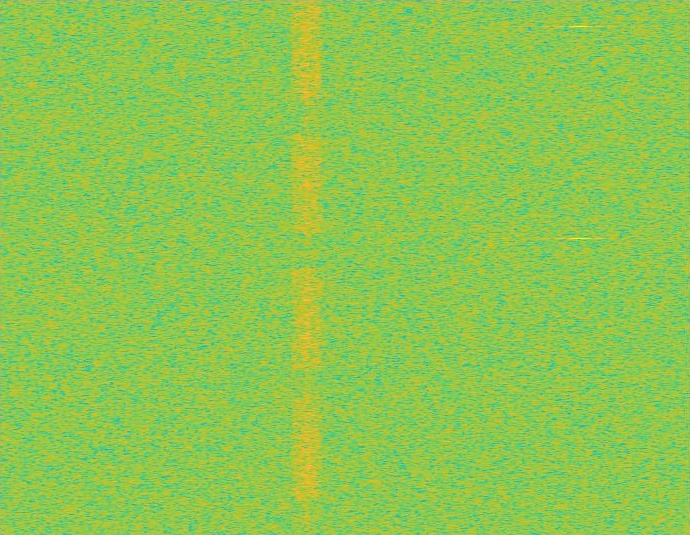5G: (290, 0, 324, 534)
DSSS: (305, 0, 310, 534)
Radar: (573, 0, 587, 534)
